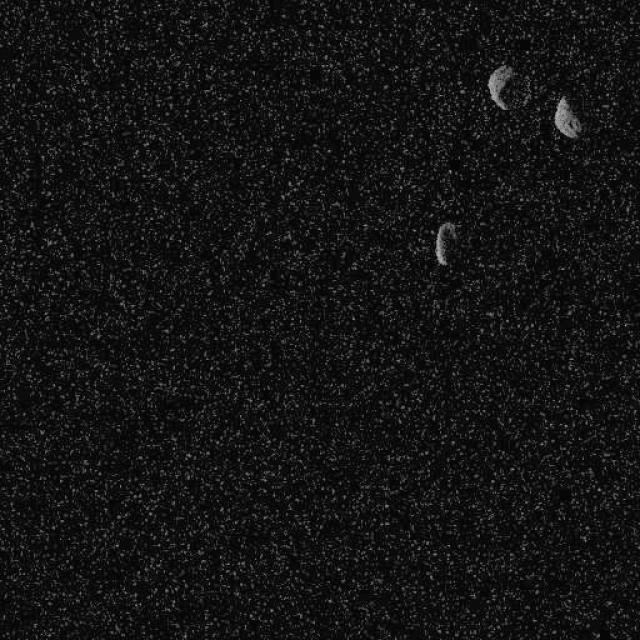D2: (486, 64, 515, 110), (552, 95, 582, 139), (433, 220, 458, 266)
